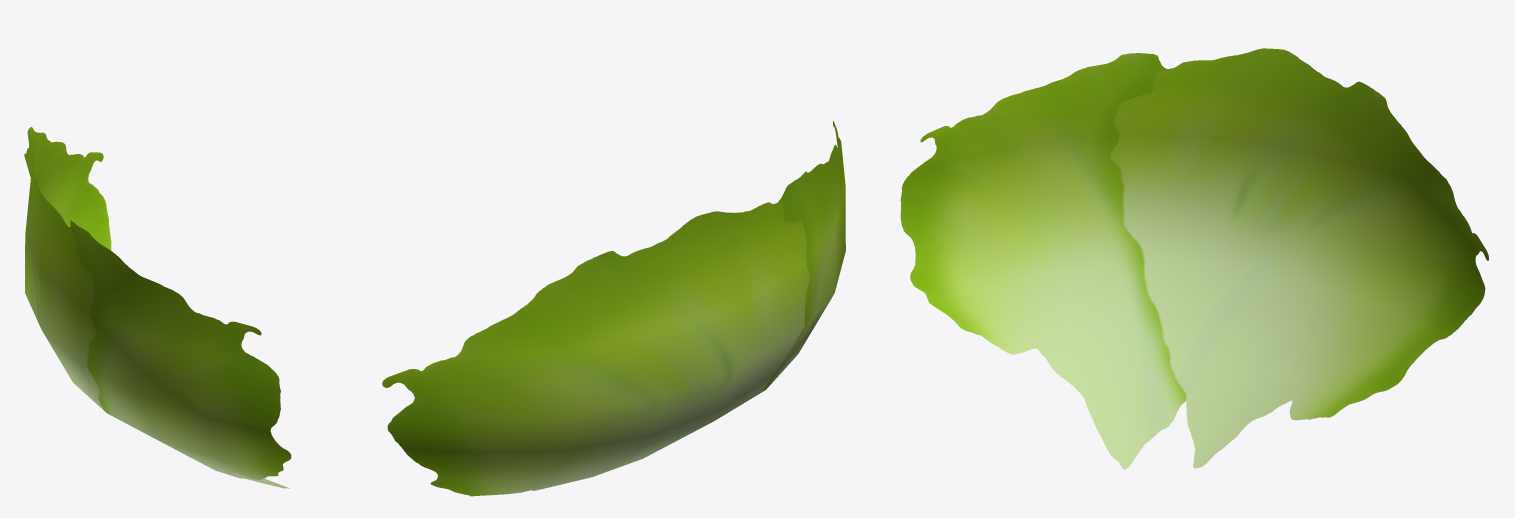
The model's file is SM_Sla_Blad.fbx.
3 views of the same model, side by side, from view 1: azimuth 30°, elevation 25°; view 2: azimuth 150°, elevation 25°; view 3: azimuth 270°, elevation 25° (orthographic). The views are drawn at different scales.
Visible parts, largest first — view 1: Plane.008; view 2: Plane.008; view 3: Plane.008.
Boxes of the visible parts, x1=… form: Plane.008: x1=24, y1=126, x2=291, y2=488; Plane.008: x1=382, y1=121, x2=845, y2=496; Plane.008: x1=900, y1=48, x2=1488, y2=469.
Bounding box in the file's own units: 93.54 × 110 × 174.
